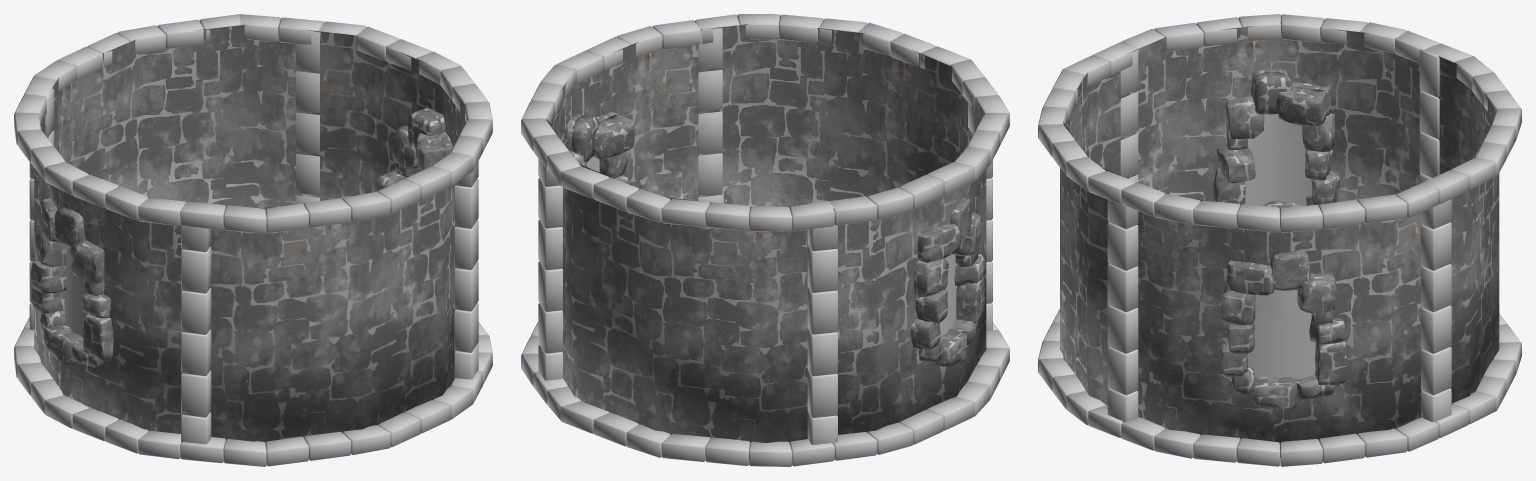
The model's file is Tower_Wall_Top_Window_01.fbx.
The picture shows the model from 3 angles, left to right: view 1: azimuth 30°, elevation 25°; view 2: azimuth 150°, elevation 25°; view 3: azimuth 270°, elevation 25°; orthographic projection.
Visible parts, largest first — view 1: Tower_Wall_Mid_01.001, rock_1.098; view 2: Tower_Wall_Mid_01.001, rock_1.098; view 3: Tower_Wall_Mid_01.001, rock_1.098.
Part boxes in pixels (box(x1,y1,x2,y2)): Tower_Wall_Mid_01.001: box(14, 14, 492, 466); rock_1.098: box(31, 107, 452, 367); Tower_Wall_Mid_01.001: box(521, 14, 1009, 466); rock_1.098: box(567, 111, 985, 366); Tower_Wall_Mid_01.001: box(1038, 14, 1521, 466); rock_1.098: box(1213, 67, 1347, 409).
Size of the model in its own units: 8.8 by 5.04 by 8.81.
